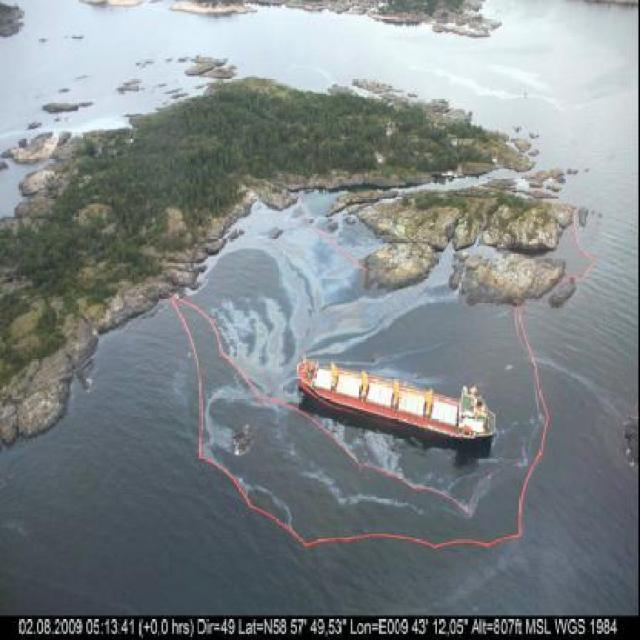sheen: (209, 196, 448, 398)
